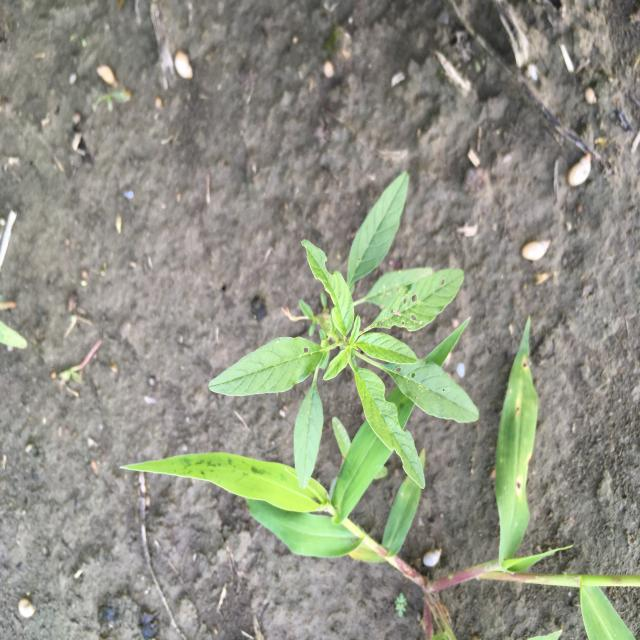Waterhemp: (208, 169, 479, 492)
